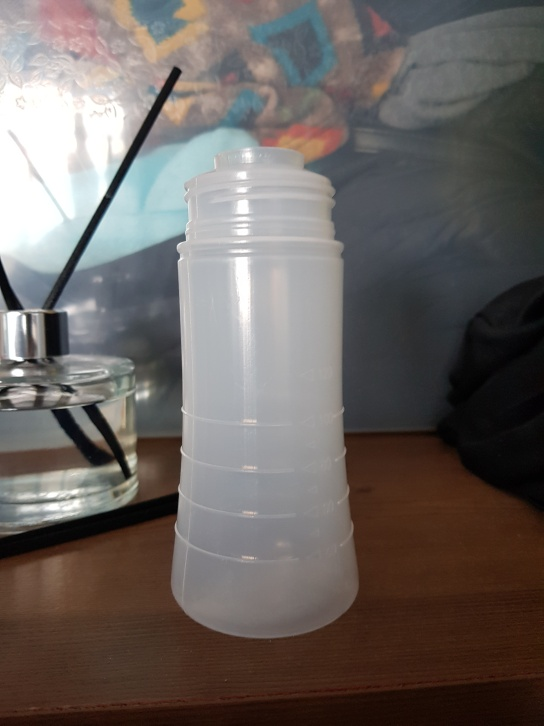Plastic: (167, 145, 367, 643)
